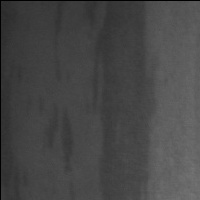inclusion: (91, 3, 163, 199), (1, 48, 27, 200), (52, 100, 81, 198), (47, 1, 71, 86)
